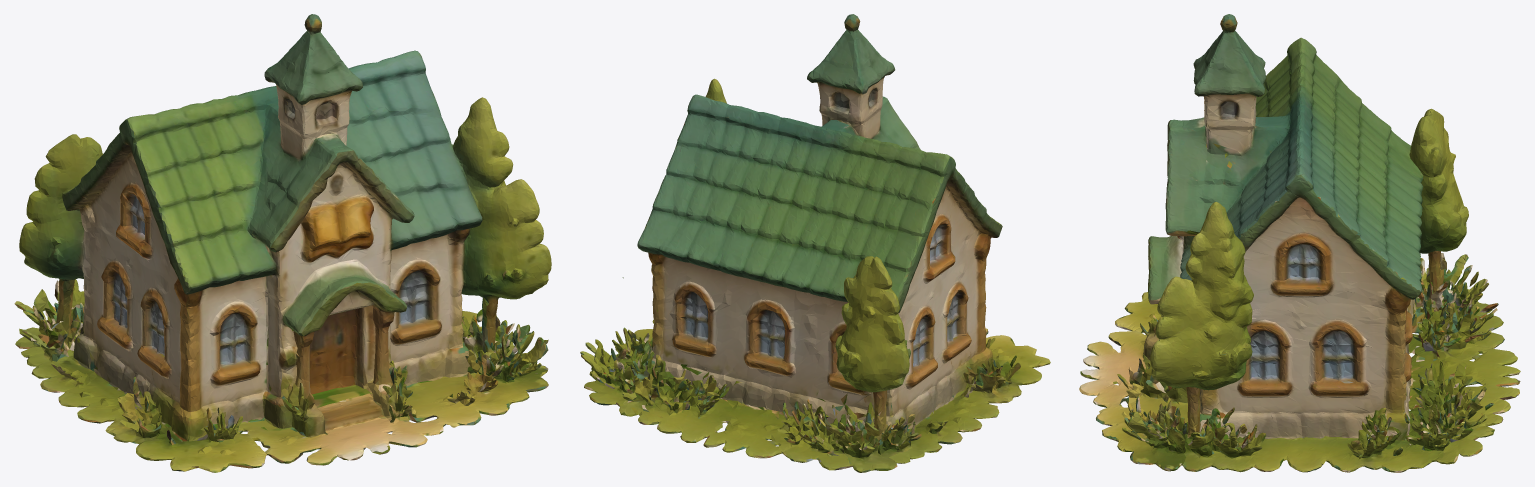
The model's file is wc-school-paint.glb.
The picture shows the model from 3 angles, left to right: view 1: azimuth 30°, elevation 25°; view 2: azimuth 150°, elevation 25°; view 3: azimuth 270°, elevation 25°; orthographic projection. The views are drawn at different scales.
Visible parts, largest first — view 1: geometry_0; view 2: geometry_0; view 3: geometry_0.
Boxes of the visible parts, x1=… form: geometry_0: x1=14, y1=14, x2=551, y2=472; geometry_0: x1=580, y1=14, x2=1050, y2=472; geometry_0: x1=1079, y1=14, x2=1520, y2=472.
Size of the model in its own units: 1.99 by 1.8 by 1.98.
Materials: 1 (1 with a texture image).
